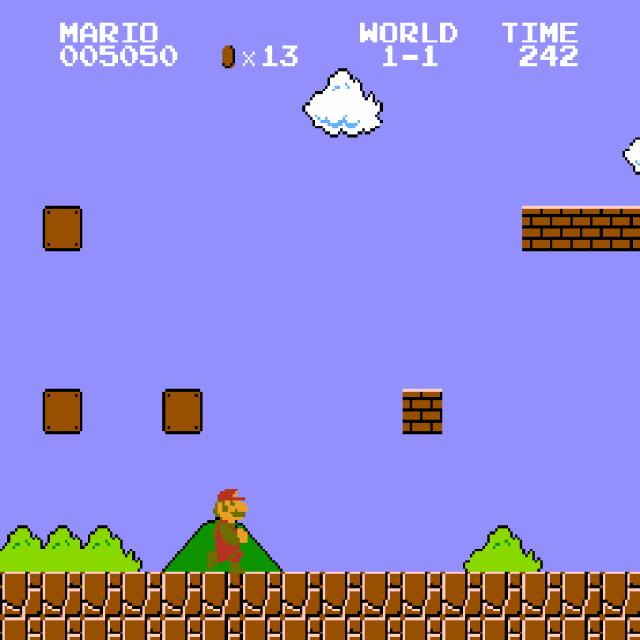big_mario: (205, 480, 248, 574)
brick_block: (402, 389, 443, 434), (522, 206, 563, 251), (562, 206, 603, 251), (603, 206, 640, 251)
empty_block: (42, 206, 83, 251), (42, 389, 83, 434), (162, 389, 203, 434)
undestructible_block: (2, 572, 43, 617), (42, 572, 83, 617), (82, 572, 123, 617), (122, 572, 163, 617), (162, 572, 203, 617), (202, 572, 243, 617), (242, 572, 283, 617), (282, 572, 323, 617), (322, 572, 363, 617), (362, 572, 403, 617), (402, 572, 443, 617), (442, 572, 483, 617), (482, 572, 523, 617), (522, 572, 563, 617), (562, 572, 603, 617), (603, 572, 640, 617), (2, 617, 43, 640), (42, 617, 83, 640), (82, 617, 123, 640), (122, 617, 163, 640), (162, 617, 203, 640), (202, 617, 243, 640), (242, 617, 283, 640), (282, 617, 323, 640), (322, 617, 363, 640), (362, 617, 403, 640), (402, 617, 443, 640), (442, 617, 483, 640), (482, 617, 523, 640), (522, 617, 563, 640), (562, 617, 603, 640), (603, 617, 640, 640), (0, 571, 2, 617), (0, 617, 2, 639)
